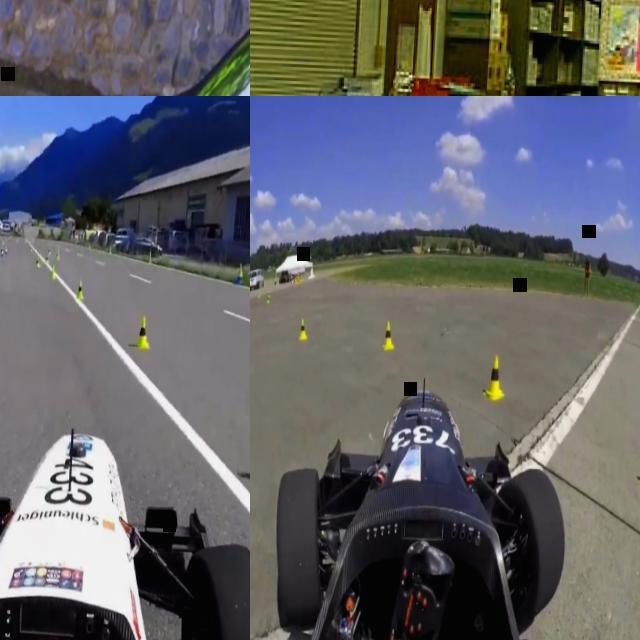no_vest: (585, 264, 591, 276)
person: (582, 257, 591, 292)
safety_cone: (479, 352, 507, 402), (135, 310, 152, 350), (382, 321, 397, 354), (295, 318, 308, 340), (75, 278, 86, 302), (236, 263, 244, 284), (50, 261, 57, 280), (265, 291, 272, 304), (148, 248, 153, 264), (36, 254, 41, 268), (108, 244, 113, 255), (45, 253, 49, 265), (56, 248, 60, 260), (0, 246, 4, 258), (4, 244, 8, 255), (257, 288, 261, 298), (88, 242, 90, 250)
vehicle: (250, 369, 579, 640), (0, 413, 250, 640), (0, 0, 250, 96), (250, 266, 266, 290)
